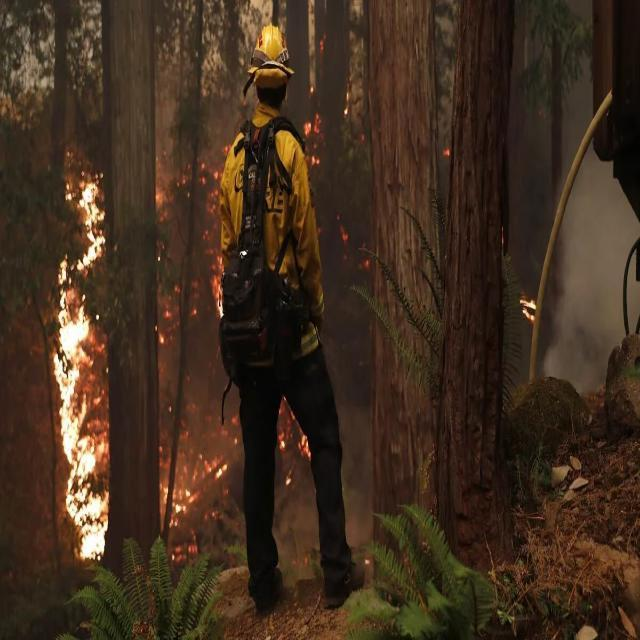Fire: (35, 138, 116, 556)
